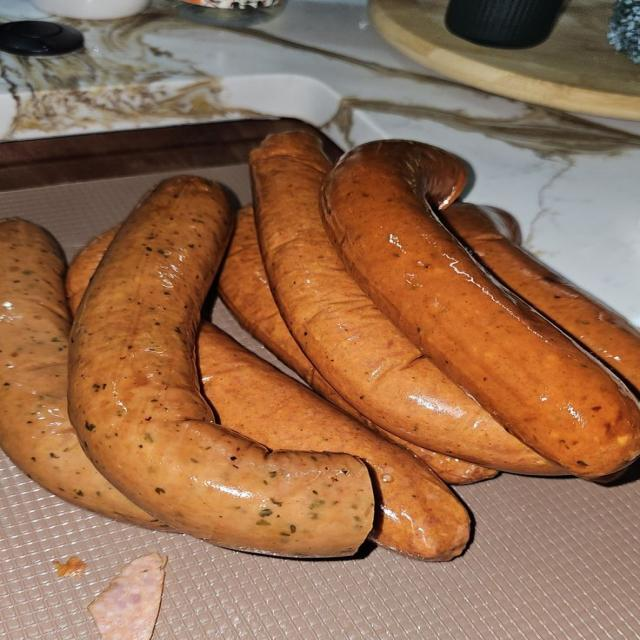sausage: (69, 177, 373, 556), (251, 133, 565, 474), (323, 141, 639, 478), (219, 206, 497, 484), (197, 322, 469, 560), (199, 323, 469, 560), (0, 220, 171, 530), (440, 203, 639, 389)
